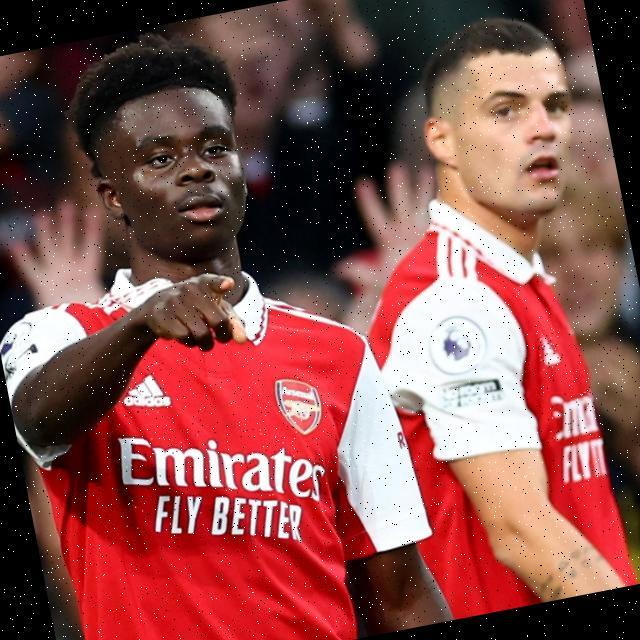Adidas: (117, 361, 173, 419), (536, 329, 566, 371)
Emirates: (109, 396, 331, 540), (544, 388, 604, 445)
